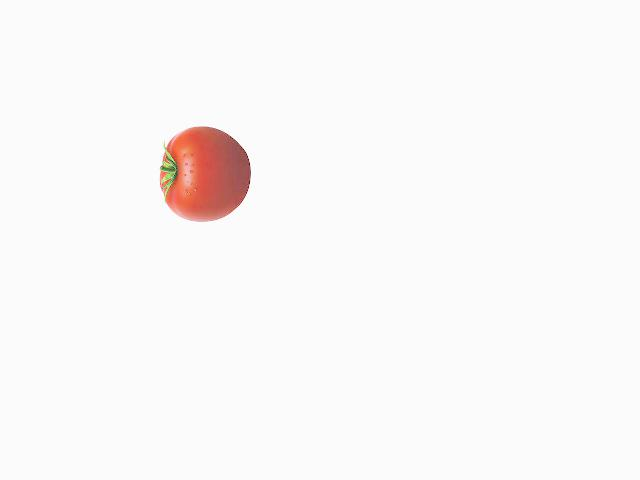tomato: (159, 126, 250, 210)
